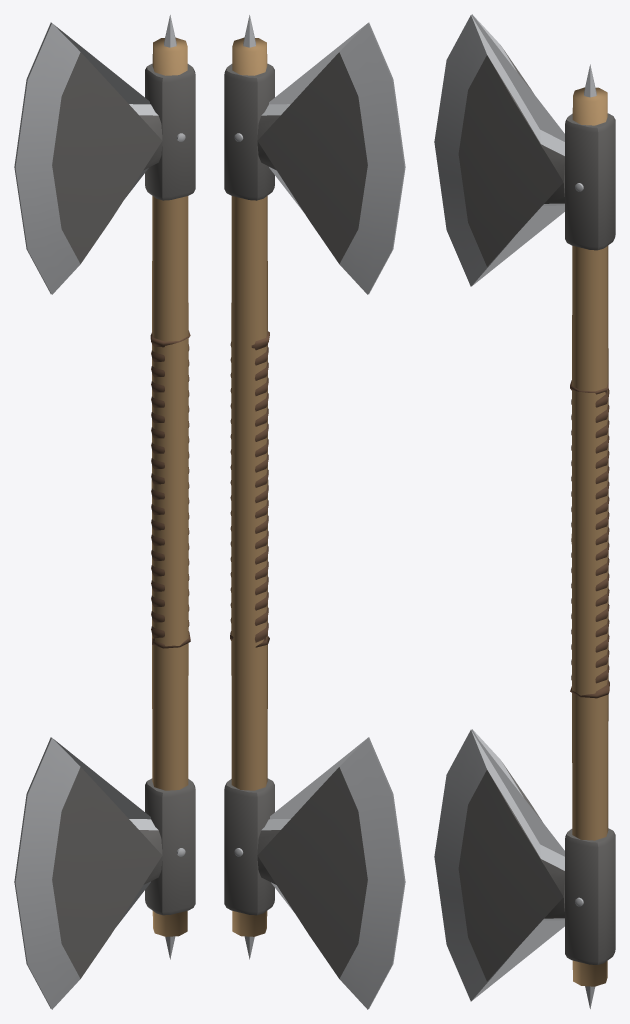
Rendered from orc-double-axe.glb.
3 renders of one model, left to right at view 1: azimuth 30°, elevation 25°; view 2: azimuth 150°, elevation 25°; view 3: azimuth 330°, elevation 25°, orthographic.
Visible parts, largest first — view 1: orc-double-axe; view 2: orc-double-axe; view 3: orc-double-axe.
Part boxes in pixels (bbox=[...]): orc-double-axe: bbox=[14, 15, 195, 1009]; orc-double-axe: bbox=[224, 15, 405, 1009]; orc-double-axe: bbox=[434, 14, 615, 1008].
Bounding box in the file's own units: 0.5385 × 2.9 × 0.1318.
